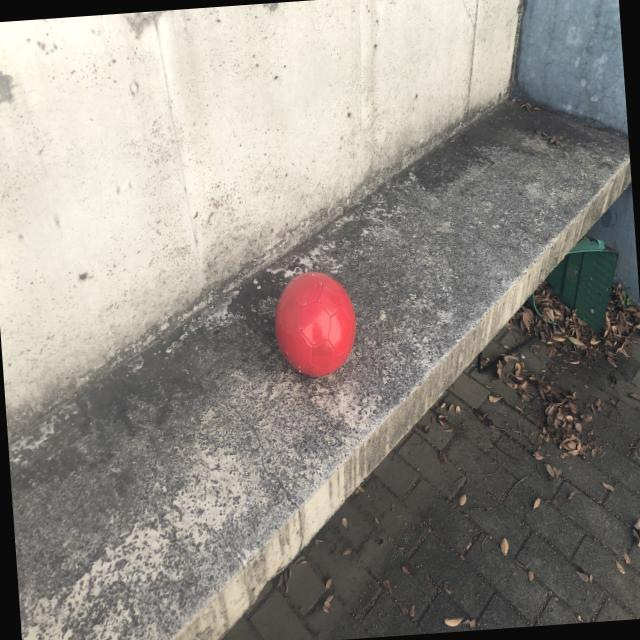red_ball: (270, 266, 360, 380)
